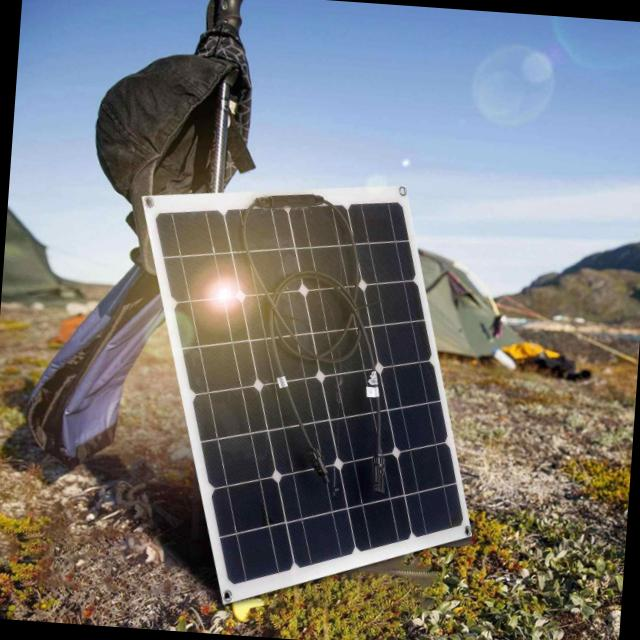no faulty: (159, 204, 466, 576)
